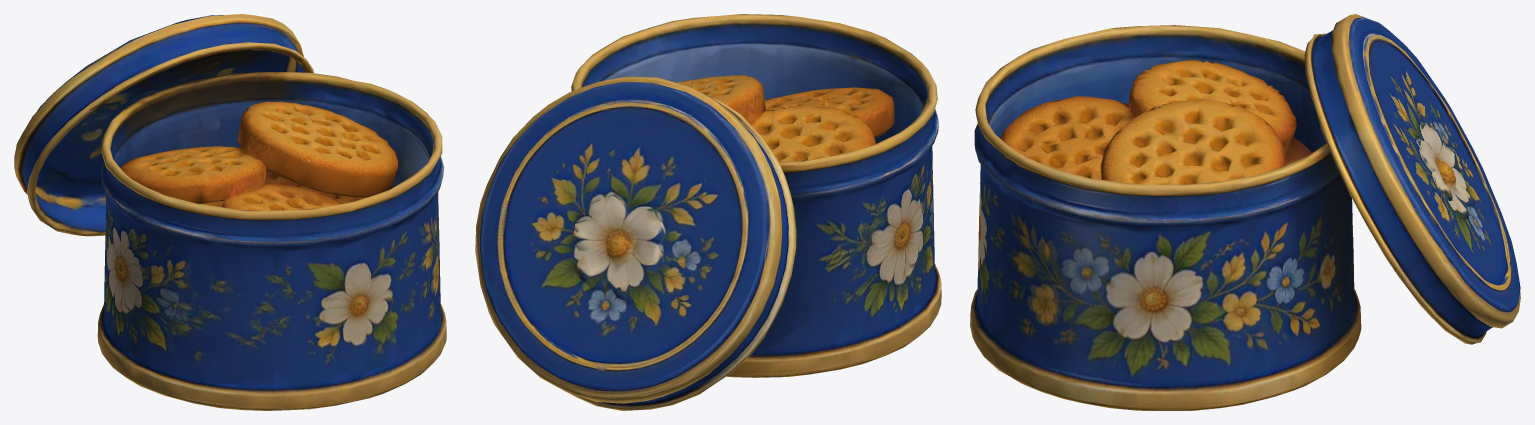
Rendered from tin.glb.
3 views of the same model, side by side, from view 1: azimuth 30°, elevation 25°; view 2: azimuth 150°, elevation 25°; view 3: azimuth 270°, elevation 25° (orthographic). The views are drawn at different scales.
Visible parts, largest first — view 1: tripo_node_417fe2d8-a148-4e42-9a3d-e70ac1ee0f9c; view 2: tripo_node_417fe2d8-a148-4e42-9a3d-e70ac1ee0f9c; view 3: tripo_node_417fe2d8-a148-4e42-9a3d-e70ac1ee0f9c.
Boxes of the visible parts, x1=… form: tripo_node_417fe2d8-a148-4e42-9a3d-e70ac1ee0f9c: x1=14, y1=14, x2=446, y2=410; tripo_node_417fe2d8-a148-4e42-9a3d-e70ac1ee0f9c: x1=475, y1=14, x2=941, y2=410; tripo_node_417fe2d8-a148-4e42-9a3d-e70ac1ee0f9c: x1=970, y1=14, x2=1520, y2=410.
Bounding box in the file's own units: 0.7196 × 0.5935 × 1.
Materials: 1 (1 with a texture image).
